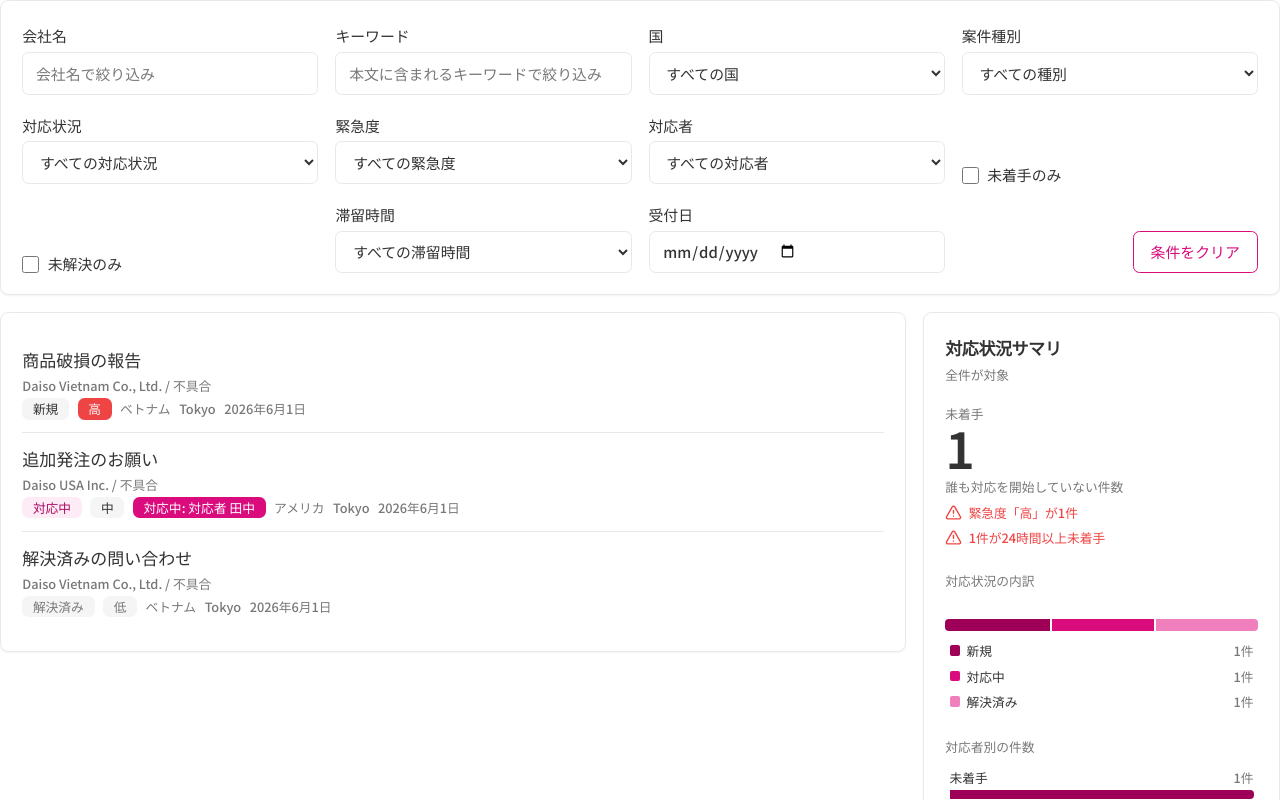
it: HelpdeskInquiryListClient › 未着手のみを選んだ状態で対応者を選択すると、未着手のみが解除される
Click the checkbox labelled "未着手のみ": (970, 175) [962,167,979,184]
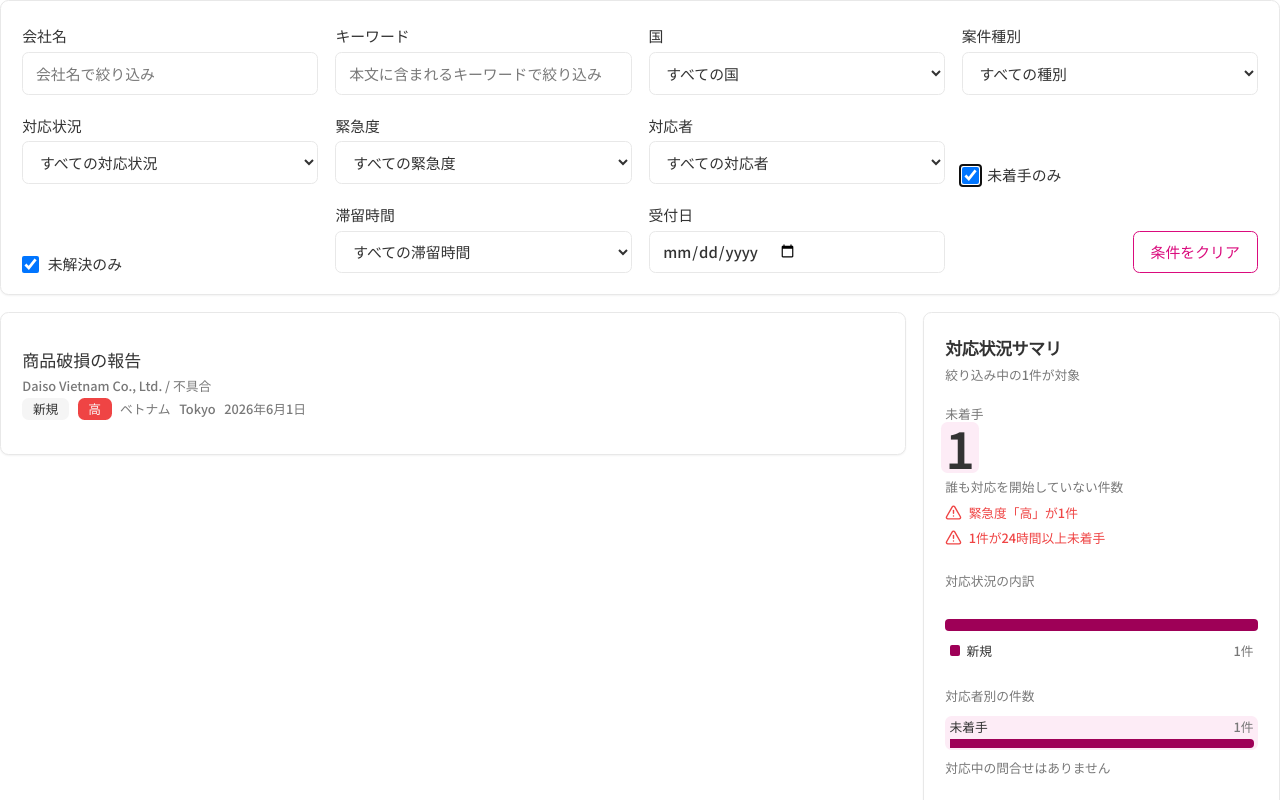
Select "田中" in the dropdown labelled "対応者": (797, 163) [648,141,945,184]
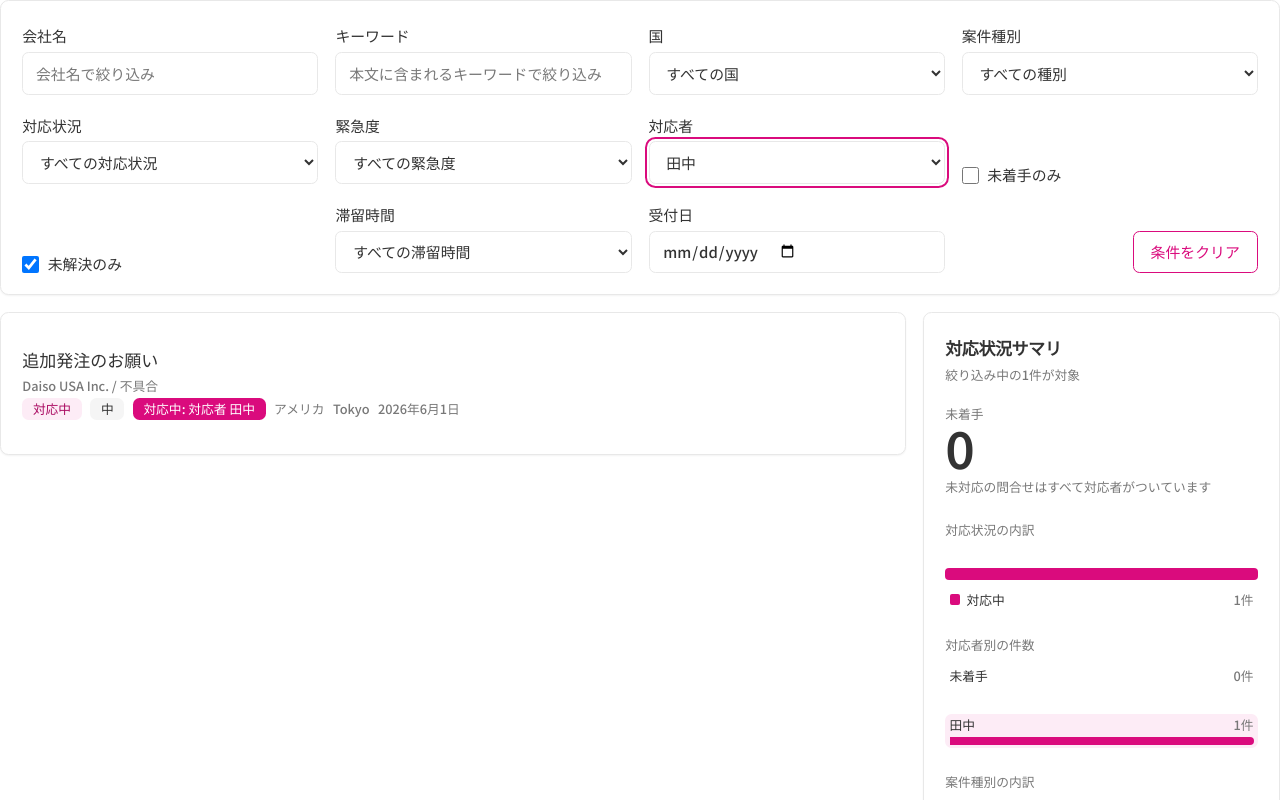
Check: the checkbox labelled "未着手のみ" is not checked, box [962,167,979,184]
Check: the link "追加発注のお願い" is shown, box [22,347,158,372]
